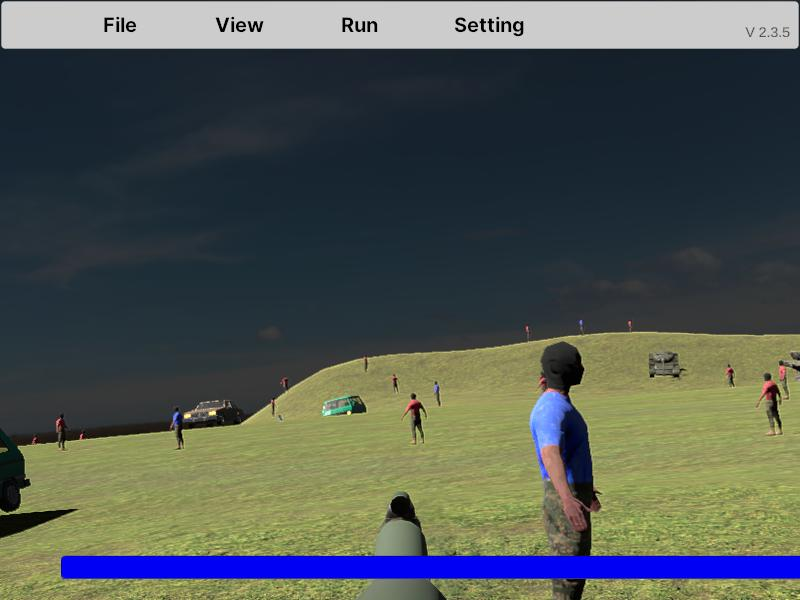Human: (530, 340, 601, 599), (757, 371, 783, 437), (401, 392, 428, 445)
car: (183, 399, 242, 429)
